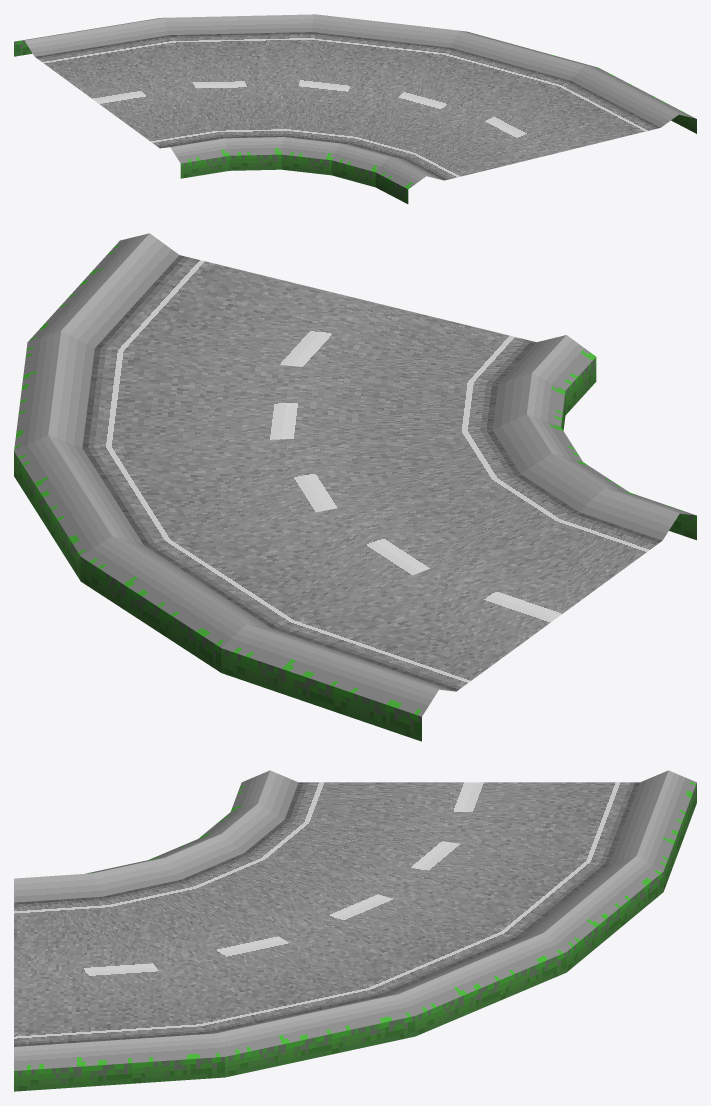
Rendered from RoadCurve.glb.
The picture shows the model from 3 angles, top to bottom: view 1: azimuth 30°, elevation 25°; view 2: azimuth 150°, elevation 25°; view 3: azimuth 270°, elevation 25°; orthographic projection. The views are drawn at different scales.
Visible parts, largest first — view 1: RoadCurve; view 2: RoadCurve; view 3: RoadCurve.
Boxes of the visible parts, left/top/right/bottom form: RoadCurve: left=14, top=14, right=696, bottom=203; RoadCurve: left=14, top=233, right=696, bottom=741; RoadCurve: left=14, top=770, right=696, bottom=1091.
Bounding box in the file's own units: 0.75 × 0.0396 × 0.75.
Materials: 1 (1 with a texture image).
